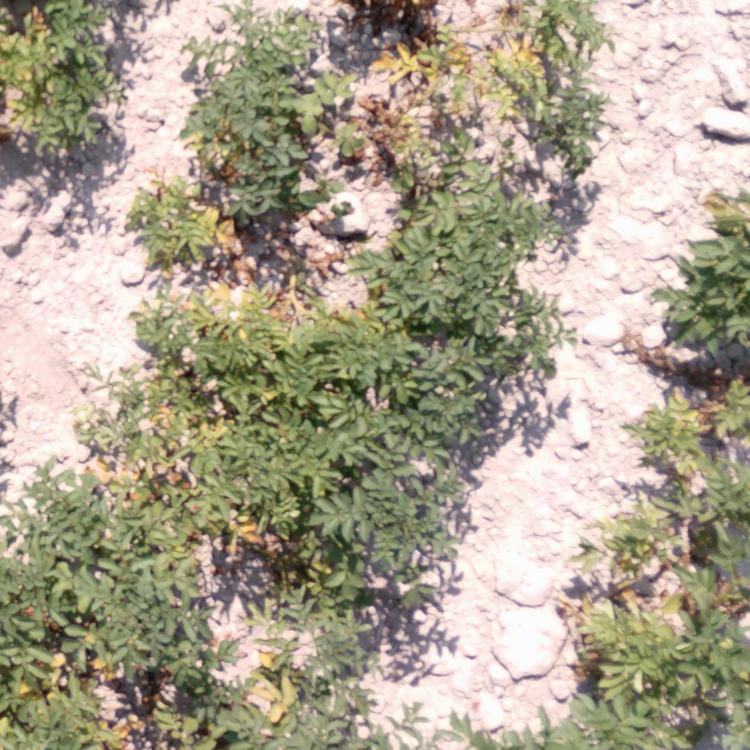healthy: (314, 332, 456, 539), (13, 527, 189, 630), (389, 192, 529, 321), (201, 23, 308, 182), (679, 212, 743, 347)
stressed: (6, 642, 329, 744), (361, 21, 594, 155), (574, 586, 737, 715), (145, 278, 302, 399), (641, 378, 743, 546), (133, 415, 278, 523), (9, 1, 108, 142), (151, 194, 272, 267)
